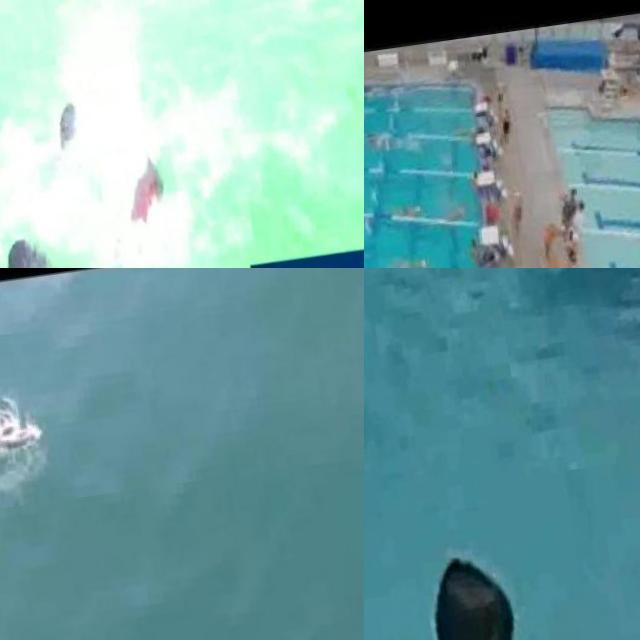drowning: (0, 207, 96, 268)
out of water: (561, 229, 581, 268), (572, 200, 586, 232), (498, 109, 513, 132)
swimming: (373, 498, 564, 640), (61, 83, 218, 244), (0, 395, 38, 467), (388, 195, 428, 231), (364, 131, 388, 156), (399, 255, 439, 268), (450, 204, 464, 228)
